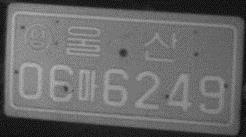0: (17, 61, 44, 101)
2: (134, 69, 160, 110)
4: (164, 72, 192, 113)
6: (102, 66, 129, 107), (47, 64, 74, 102)
9: (197, 73, 227, 115)
마: (77, 67, 99, 102)
영: (23, 22, 54, 54)
울산_D: (64, 24, 179, 63)
